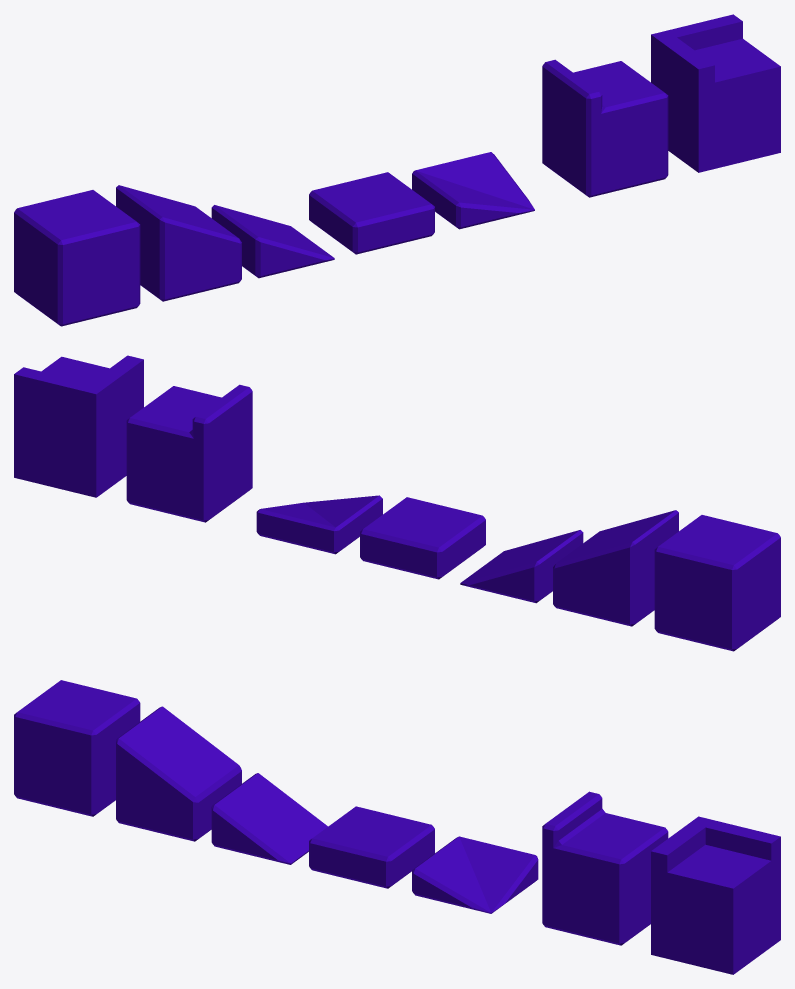
The model's file is World-Blocks-v1.glb.
The picture shows the model from 3 angles, top to bottom: view 1: azimuth 30°, elevation 25°; view 2: azimuth 150°, elevation 25°; view 3: azimuth 330°, elevation 25°; orthographic projection.
Parts seen in each view (by area): view 1: BlockCornerWall, BlockWall, Block, RampTop, BlockShort, RampLowerCorner, RampBottom; view 2: BlockCornerWall, BlockWall, Block, RampTop, BlockShort, RampLowerCorner, RampBottom; view 3: BlockCornerWall, BlockWall, Block, RampTop, BlockShort, RampLowerCorner, RampBottom.
Boxes of the visible parts, x1,y1,x2,y2 form: BlockCornerWall: [651, 14, 780, 172]; BlockWall: [542, 59, 668, 197]; Block: [14, 190, 140, 326]; RampTop: [116, 185, 241, 301]; BlockShort: [309, 172, 434, 254]; RampLowerCorner: [412, 152, 534, 229]; RampBottom: [211, 205, 334, 278]; BlockCornerWall: [14, 355, 143, 497]; BlockWall: [126, 384, 252, 522]; Block: [654, 515, 780, 651]; RampTop: [553, 510, 678, 626]; BlockShort: [360, 497, 485, 579]; RampLowerCorner: [256, 495, 382, 554]; RampBottom: [460, 530, 583, 603]; BlockCornerWall: [651, 816, 780, 974]; BlockWall: [542, 791, 668, 945]; Block: [14, 680, 140, 816]; RampTop: [116, 706, 241, 841]; BlockShort: [309, 806, 434, 888]; RampLowerCorner: [412, 836, 538, 913]; RampBottom: [211, 773, 327, 864].
Size of what is drawn, in the model's own units: 17.5 by 2.4 by 2.
